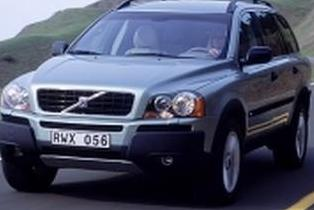front_view: (0, 67, 221, 183)
headlight: (132, 91, 208, 127)
side_glass: (242, 9, 295, 75)
